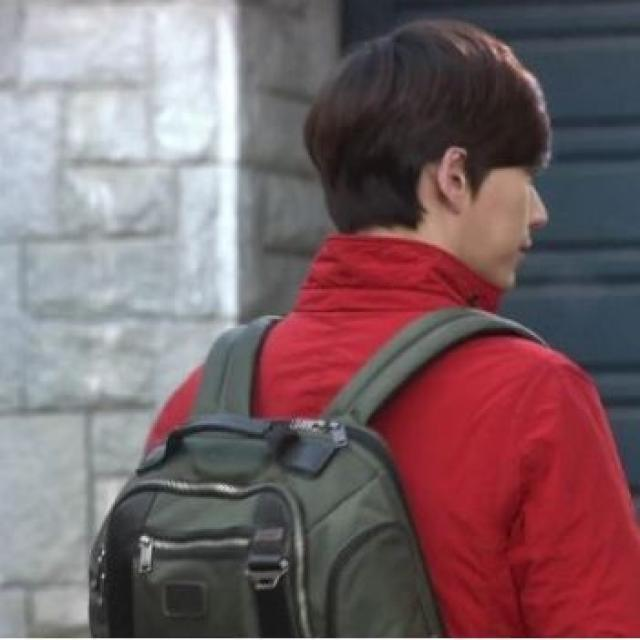backpack: (64, 341, 518, 640)
